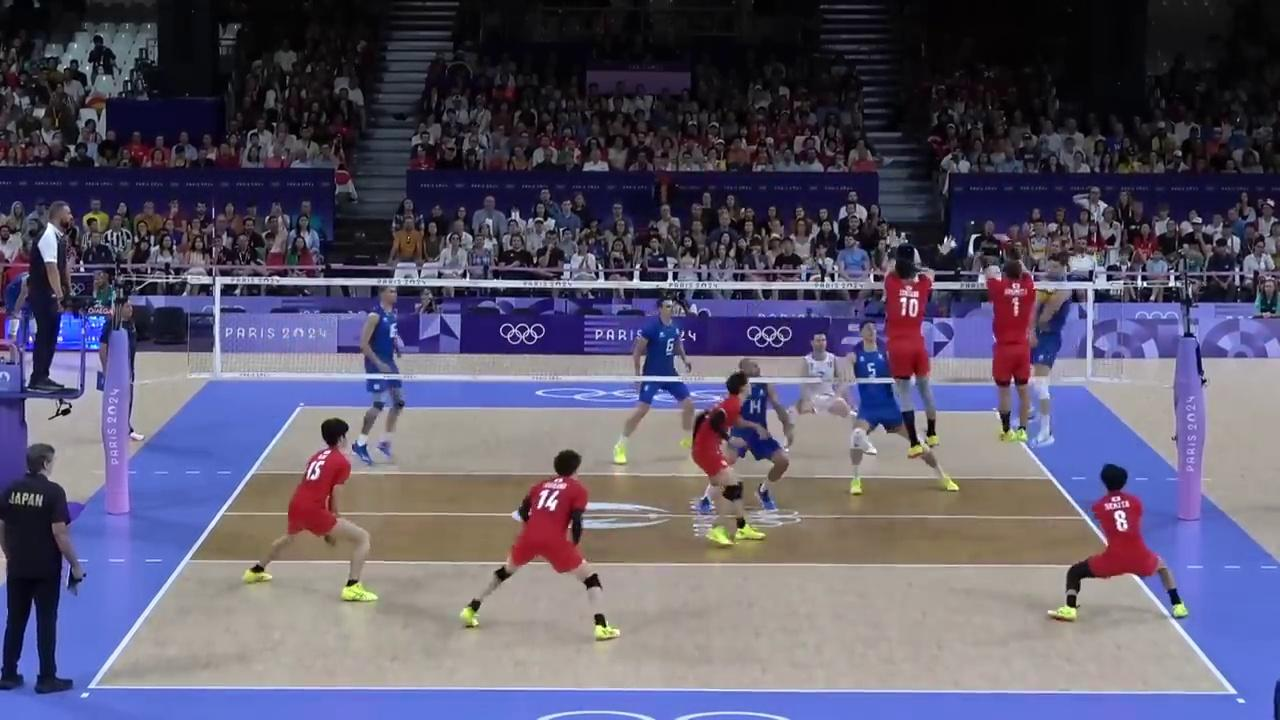ball: (1037, 288, 1057, 302)
